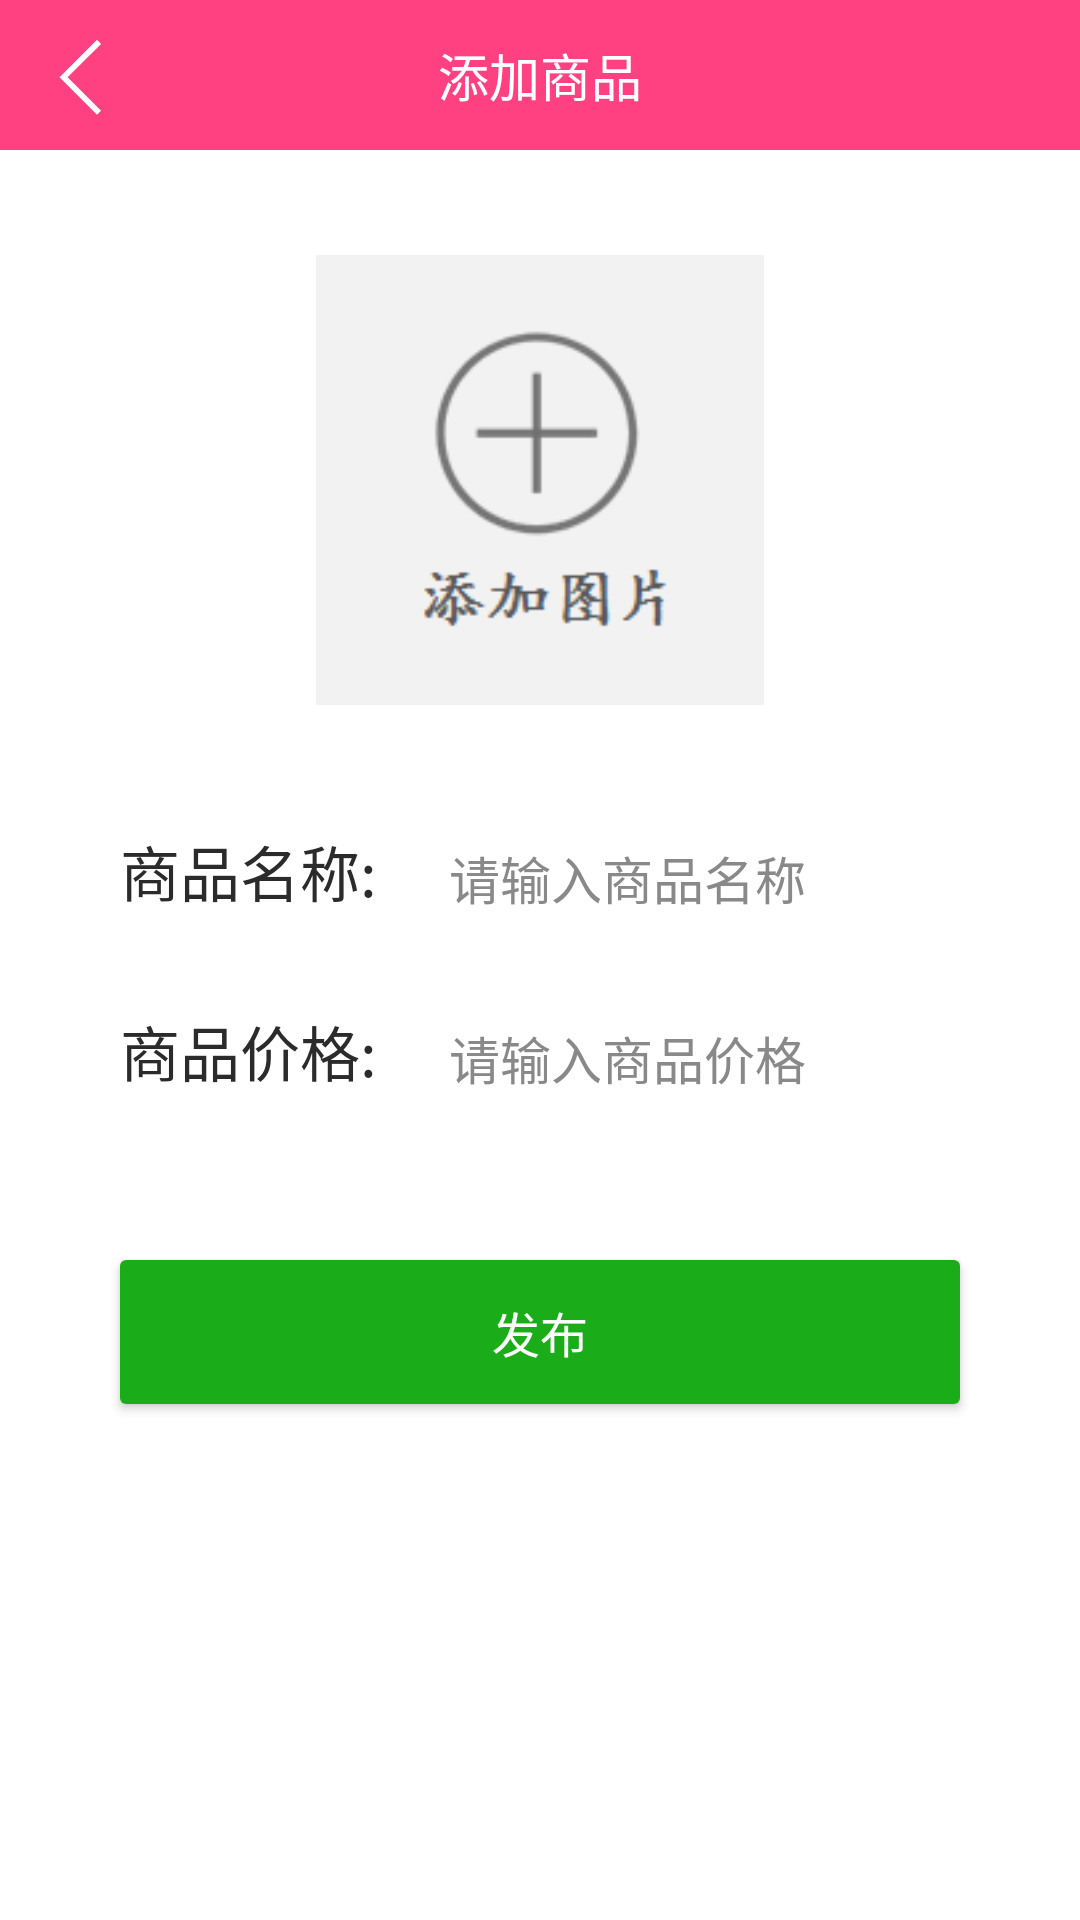

Where icons sit on this 1080*1920 app screen, as (x1, y1, x2, y2):
reture: (59, 40, 101, 115)
